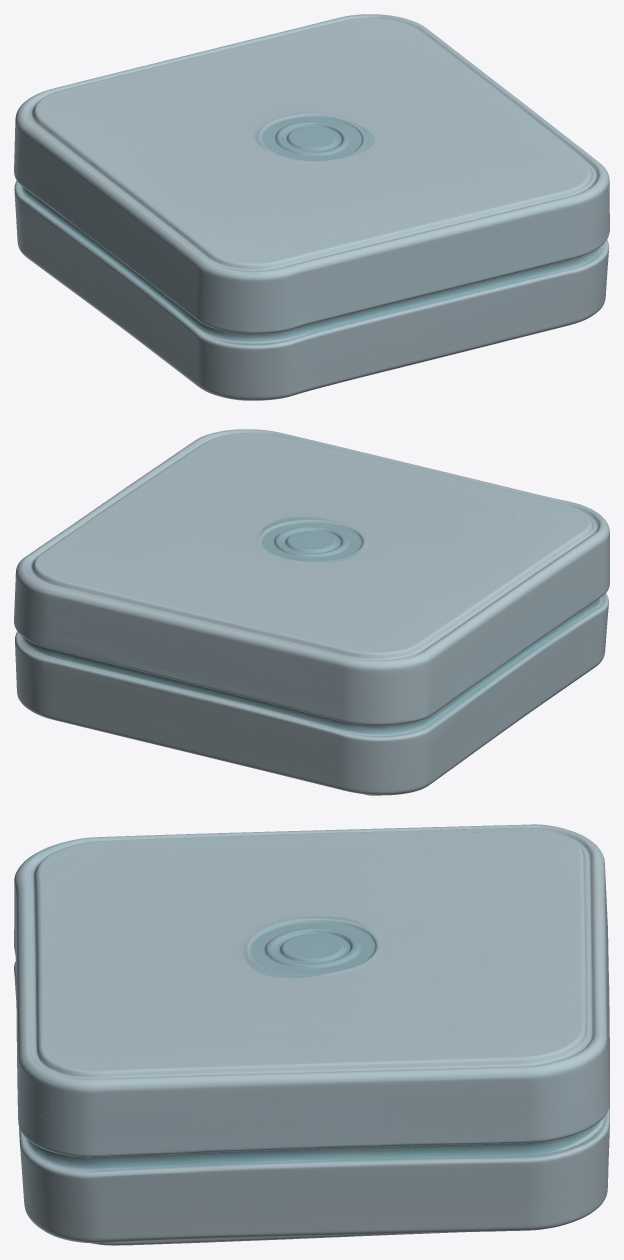
Rendered from minew MBM01.glb.
The picture shows the model from 3 angles, top to bottom: view 1: azimuth 30°, elevation 25°; view 2: azimuth 150°, elevation 25°; view 3: azimuth 270°, elevation 25°; orthographic projection. The views are drawn at different scales.
Parts seen in each view (by area): view 1: texture_pbr_v128; view 2: texture_pbr_v128; view 3: texture_pbr_v128.
Part boxes in pixels (x1,y1,x2,y2): texture_pbr_v128: (14, 14, 609, 400); texture_pbr_v128: (14, 429, 609, 795); texture_pbr_v128: (14, 824, 609, 1245).
Size of the model in its own units: 0.9087 by 0.3263 by 0.9102.
Materials: 1 (1 with a texture image).
